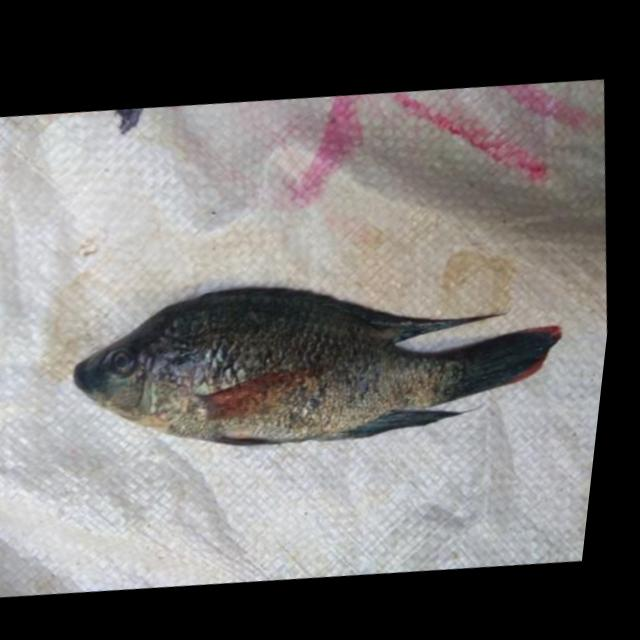Tilapia: (52, 240, 582, 489)
